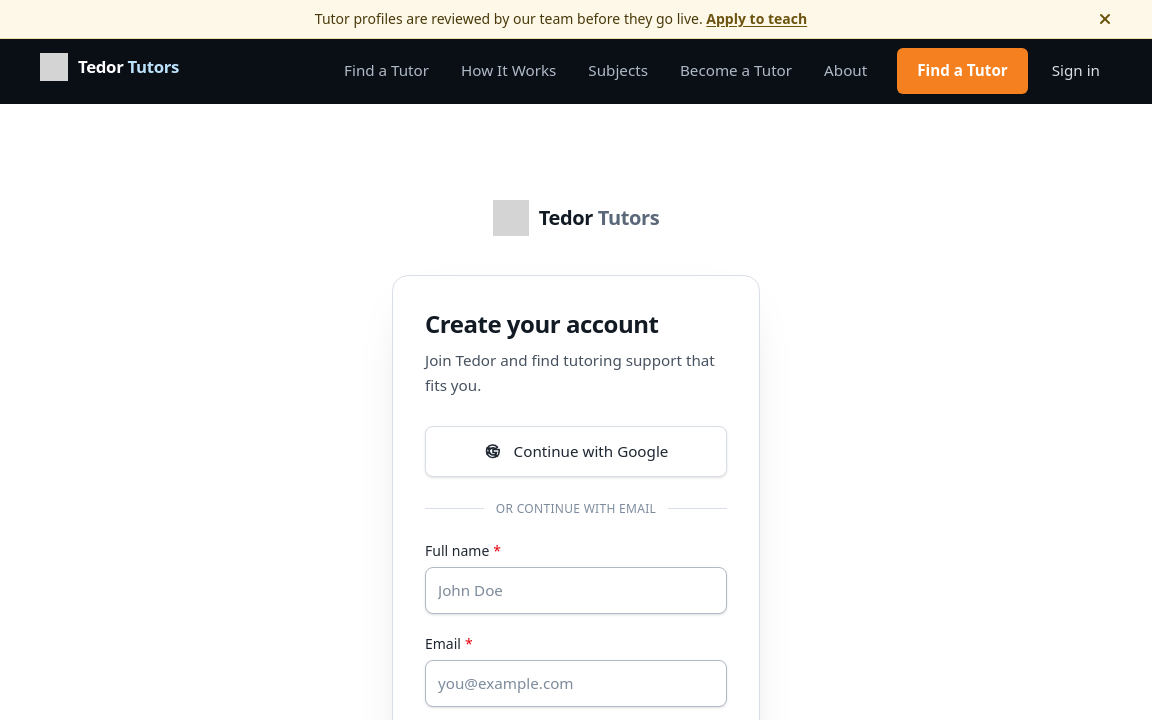
RegisterPage › shows the API message when registration is refused
The width and height of the screenshot is (1152, 720).
In the field labelled "Full name*": (576,590) top-left (425, 567), bottom-right (727, 614), type "Ada Lovelace"
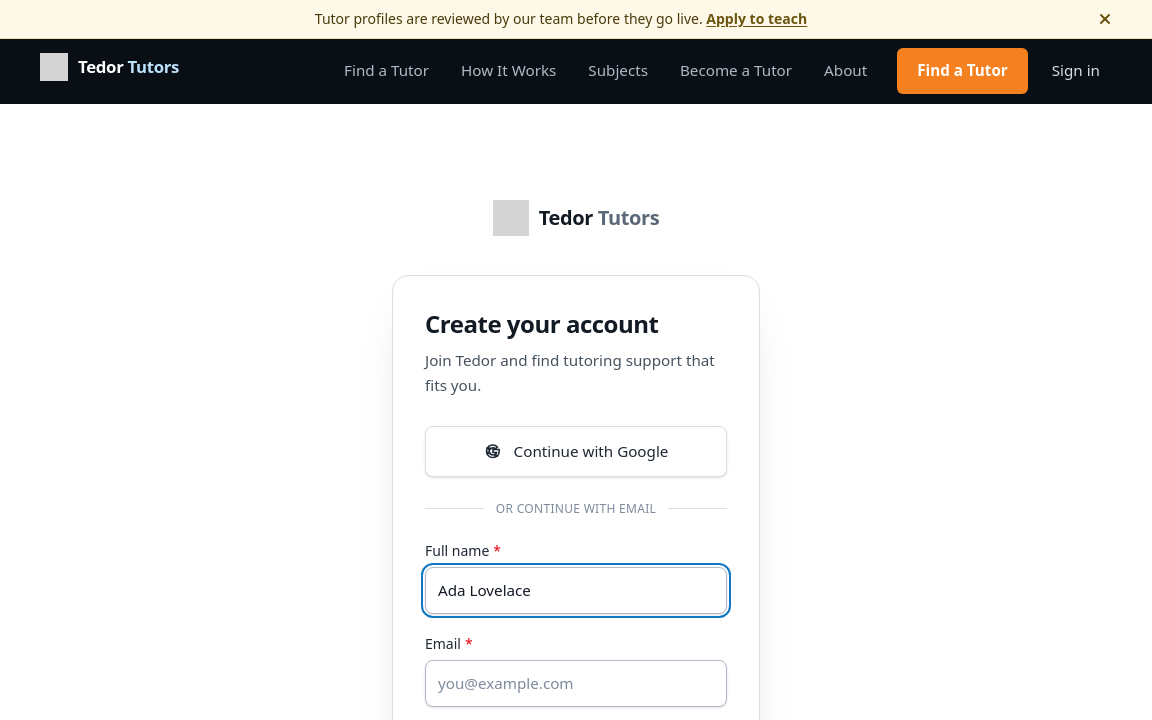
In the field labelled "Email*": (576,683) top-left (425, 660), bottom-right (727, 707), type "ada@example.com"
(page scrolled)
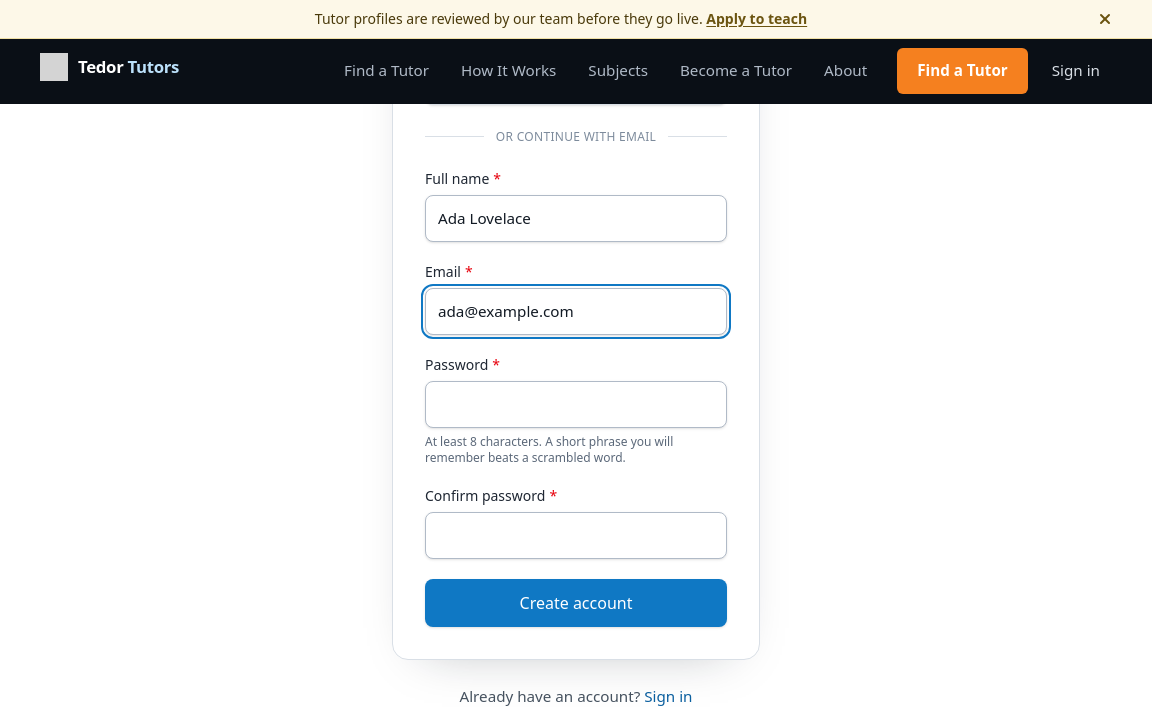
In the password field labelled "Password*": (576,404) top-left (425, 381), bottom-right (727, 428), type "a-good-password"
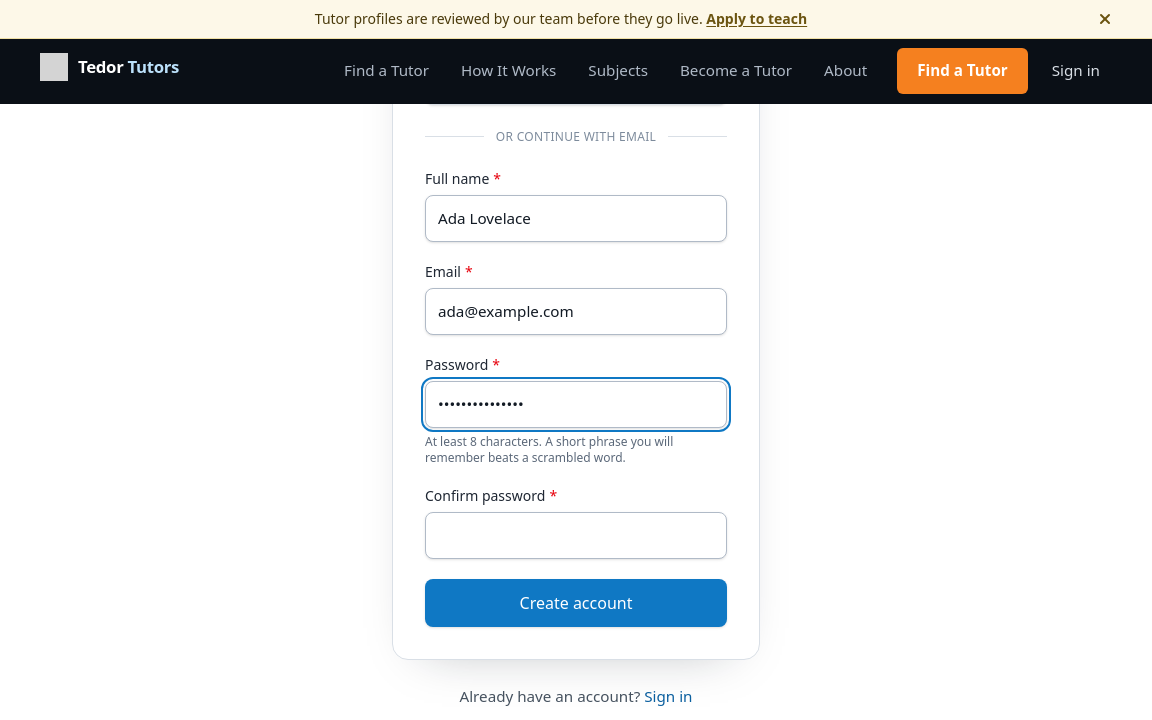
In the password field labelled "Confirm password*": (576,536) top-left (425, 512), bottom-right (727, 559), type "a-good-password"
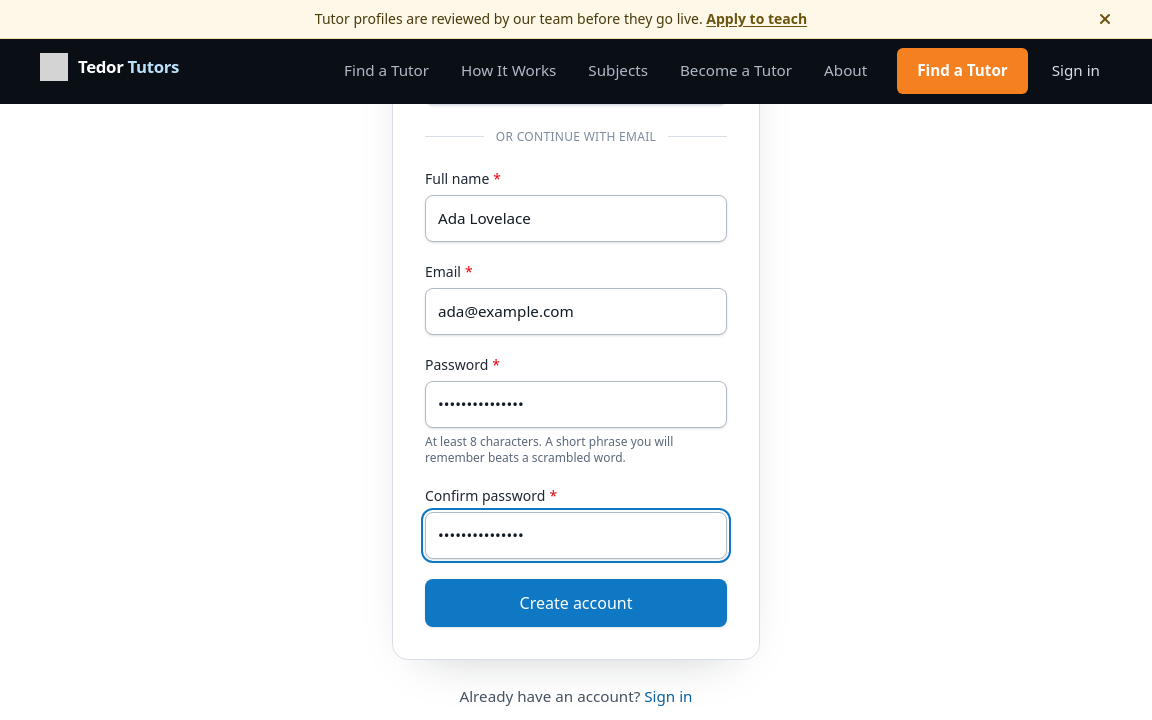
Click the button "Create account": (576,603) top-left (425, 579), bottom-right (727, 627)
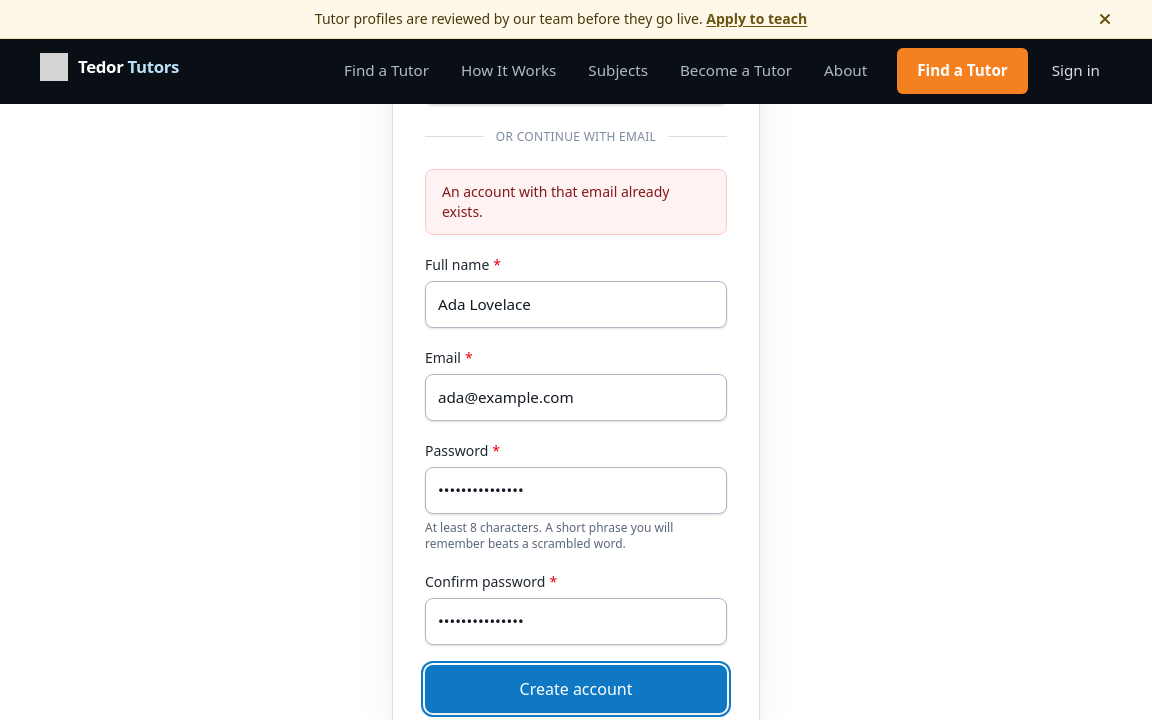
Expected: the message reads "An account with that email already exists.", top-left (442, 182), bottom-right (669, 221)
